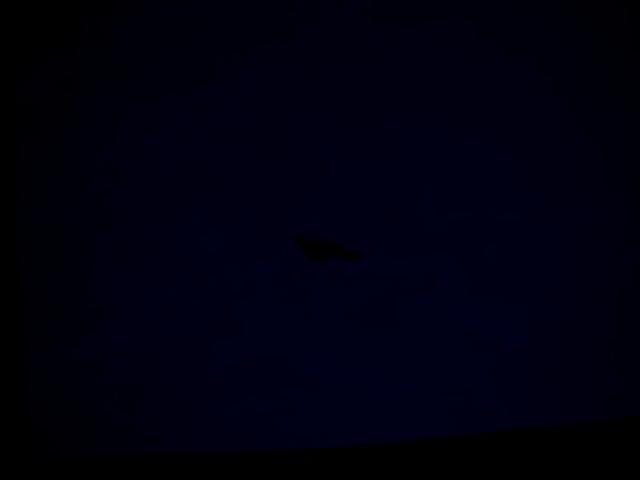uav: (279, 224, 364, 286)
